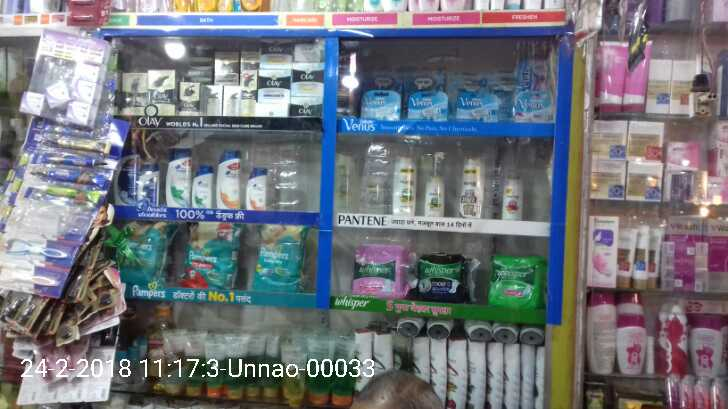venus: (507, 57, 554, 122), (458, 75, 507, 122), (409, 90, 449, 118), (363, 91, 401, 118), (407, 70, 448, 88), (361, 71, 401, 88)
